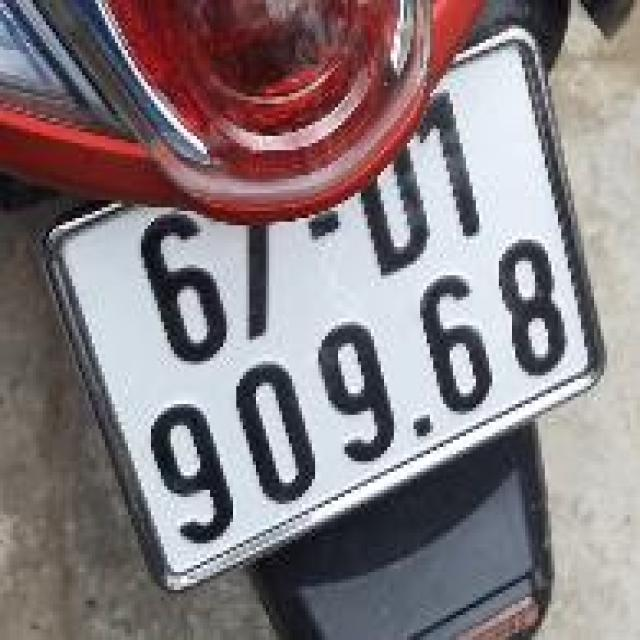0: (214, 347, 329, 517)
1: (403, 77, 497, 250)
6: (124, 189, 248, 380), (406, 255, 514, 435)
7: (197, 167, 303, 355)
8: (476, 222, 587, 384)
9: (301, 304, 425, 490), (134, 384, 251, 565)
D: (335, 110, 453, 299)
